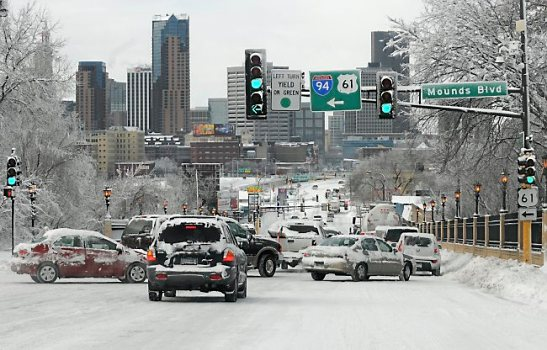car: (146, 215, 249, 304), (11, 228, 147, 282), (303, 235, 416, 283)
traffic light: (244, 48, 268, 120), (375, 72, 397, 119)
